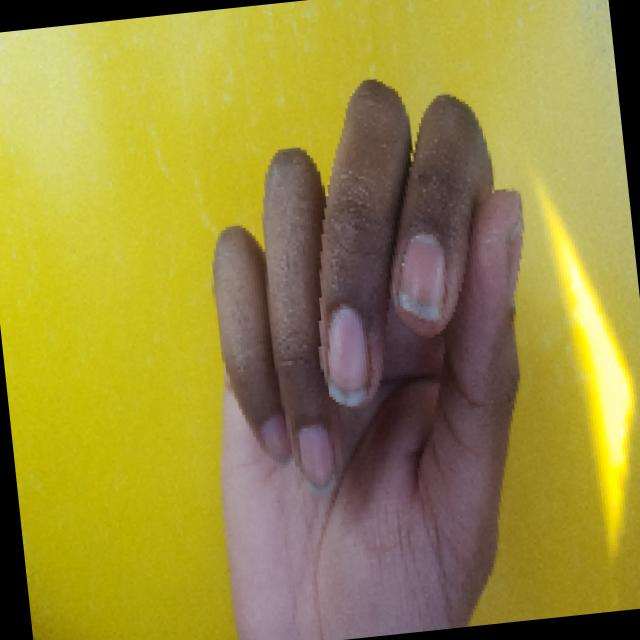Nail: (327, 307, 367, 406), (395, 234, 442, 318), (297, 424, 333, 488), (507, 197, 524, 303), (257, 412, 289, 465)
